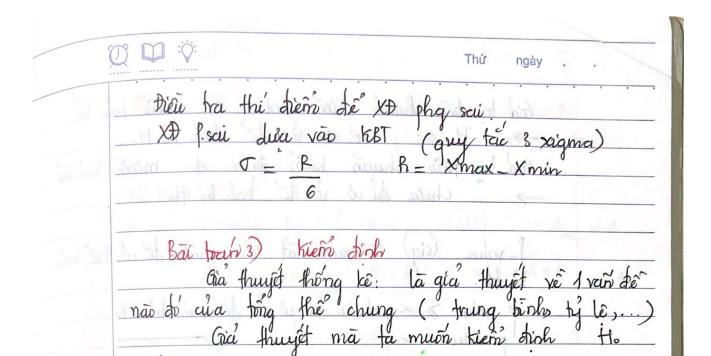text: (129, 291, 656, 334), (155, 121, 607, 165), (202, 262, 650, 306), (151, 89, 495, 132), (208, 323, 557, 356), (165, 233, 386, 268), (238, 153, 322, 202), (394, 156, 563, 178), (596, 327, 621, 347), (515, 54, 544, 70), (463, 51, 488, 66)
